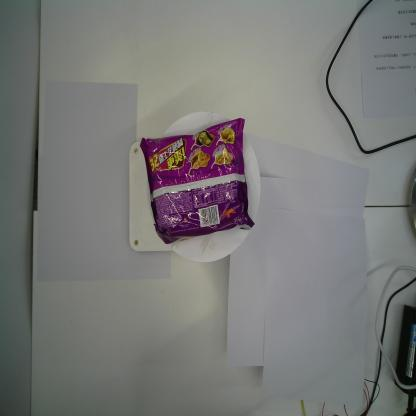Instant Noodles: (139, 117, 255, 245)
